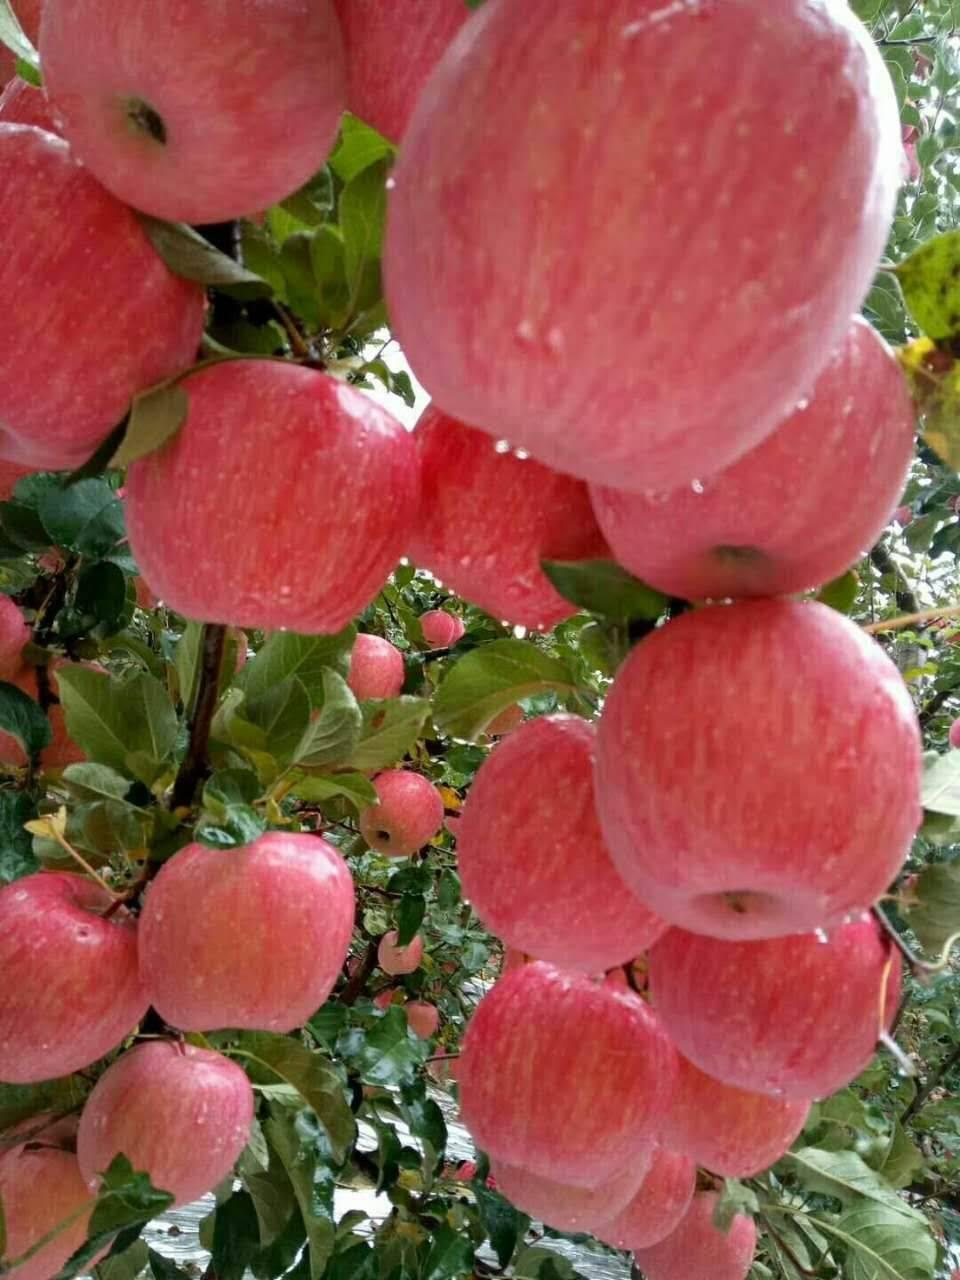apple: (381, 3, 923, 491), (595, 595, 919, 936), (119, 343, 426, 650), (588, 310, 918, 596), (1, 106, 213, 477), (21, 10, 346, 222), (453, 717, 672, 972), (448, 955, 671, 1194), (649, 906, 901, 1104), (406, 395, 609, 633), (137, 838, 352, 1039), (5, 870, 157, 1089), (78, 1039, 251, 1217), (659, 1052, 816, 1175)
